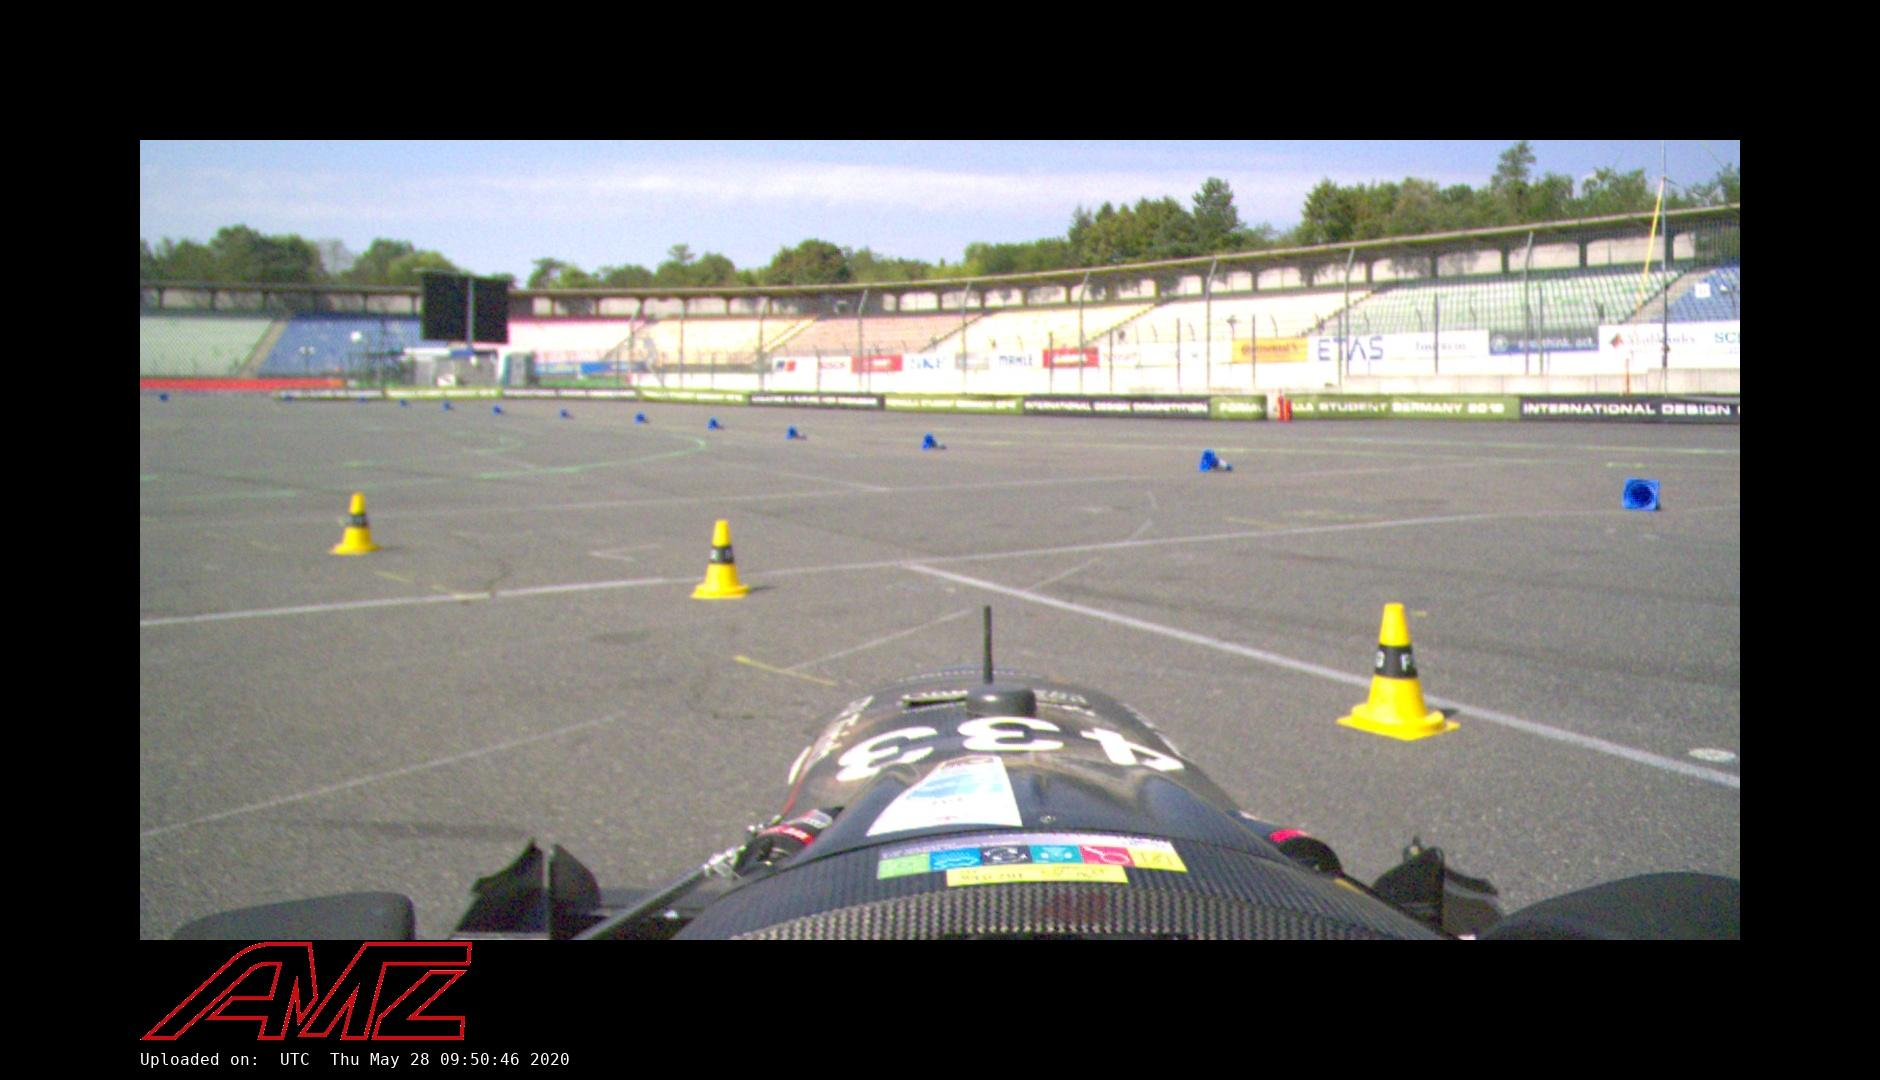blue_cone: (1620, 477, 1660, 512), (1197, 448, 1234, 473), (921, 433, 948, 452), (784, 424, 808, 441), (706, 417, 724, 430)
yellow_cone: (1333, 601, 1460, 742), (690, 521, 751, 599), (329, 490, 383, 556)
